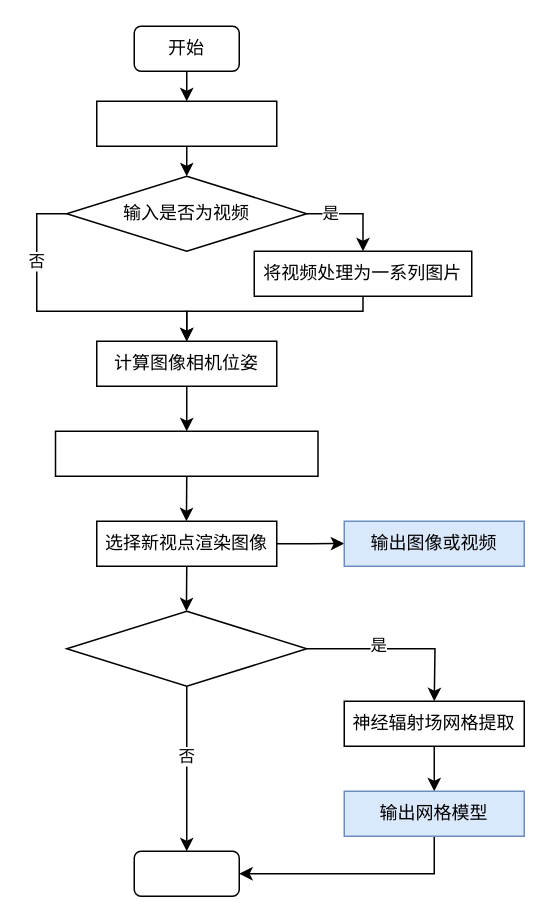
Some shapes in this 551 by 923 pixel diagram are drawn without their labels. Each missing label, with the centre of its shape:
是否导出网格模型: (186,648)
神经辐射场提取场景三维信息: (186,453)
结束: (186,873)
输入图片或者视频: (186,123)
